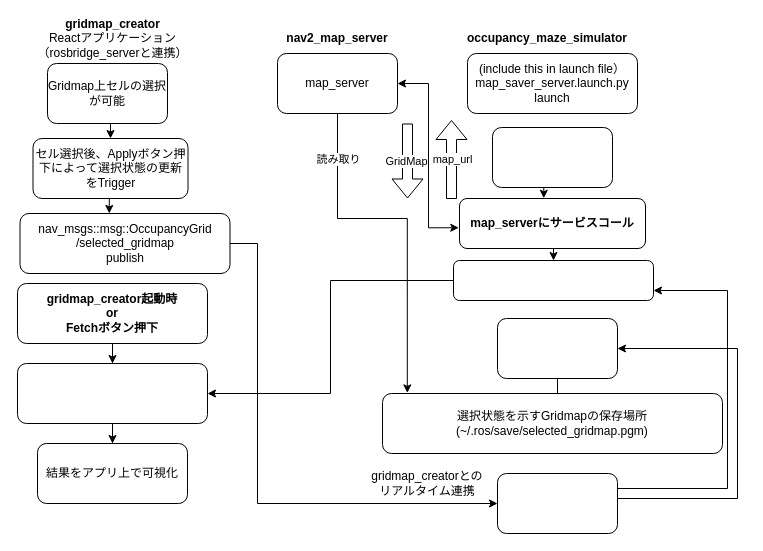
This 763x551 diagram has some shape labels left out. Each missing label, with the centre of its shape:
/gridmap Publish: pixel 553 280
/gridmap Subscribe: pixel 112 393
/selected_gridmap Subscribe: pixel 557 503
if mode = selected: pixel 552 157
map_ioのsaveMapToFileで GridMapを保存: pixel 557 348
